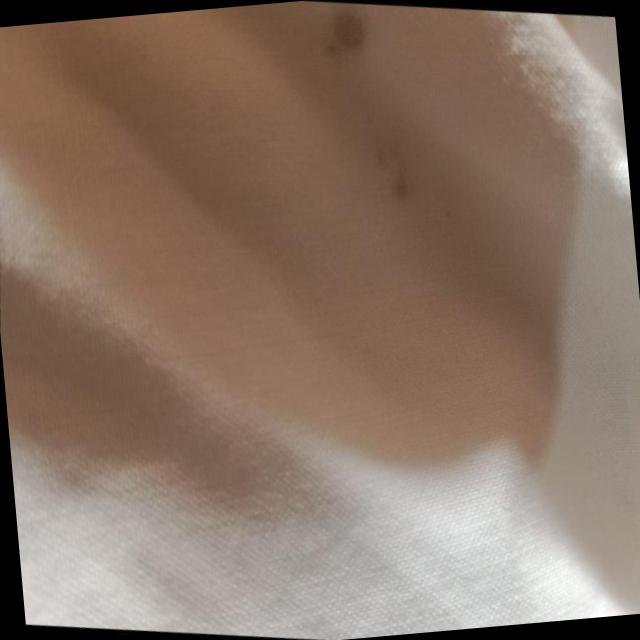stain: (352, 108, 438, 213), (309, 0, 380, 83)
